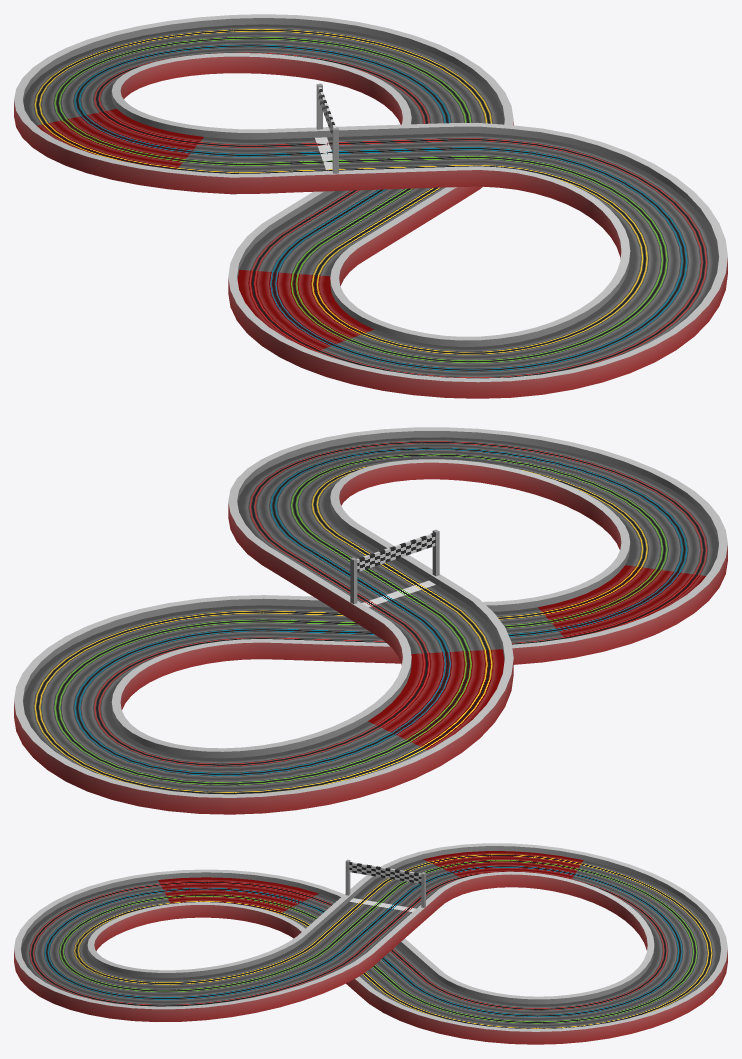
Rendered from track.fbx.
The picture shows the model from 3 angles, top to bottom: view 1: azimuth 30°, elevation 25°; view 2: azimuth 150°, elevation 25°; view 3: azimuth 270°, elevation 25°; orthographic projection. The views are drawn at different scales.
Visible parts, largest first — view 1: Torus.001; view 2: Torus.001; view 3: Torus.001.
Part boxes in pixels (box(x1,y1,x2,y2)): Torus.001: box(14, 14, 727, 398); Torus.001: box(14, 427, 727, 814); Torus.001: box(14, 843, 727, 1044).
Size of the model in its own units: 233 by 56.21 by 433.
